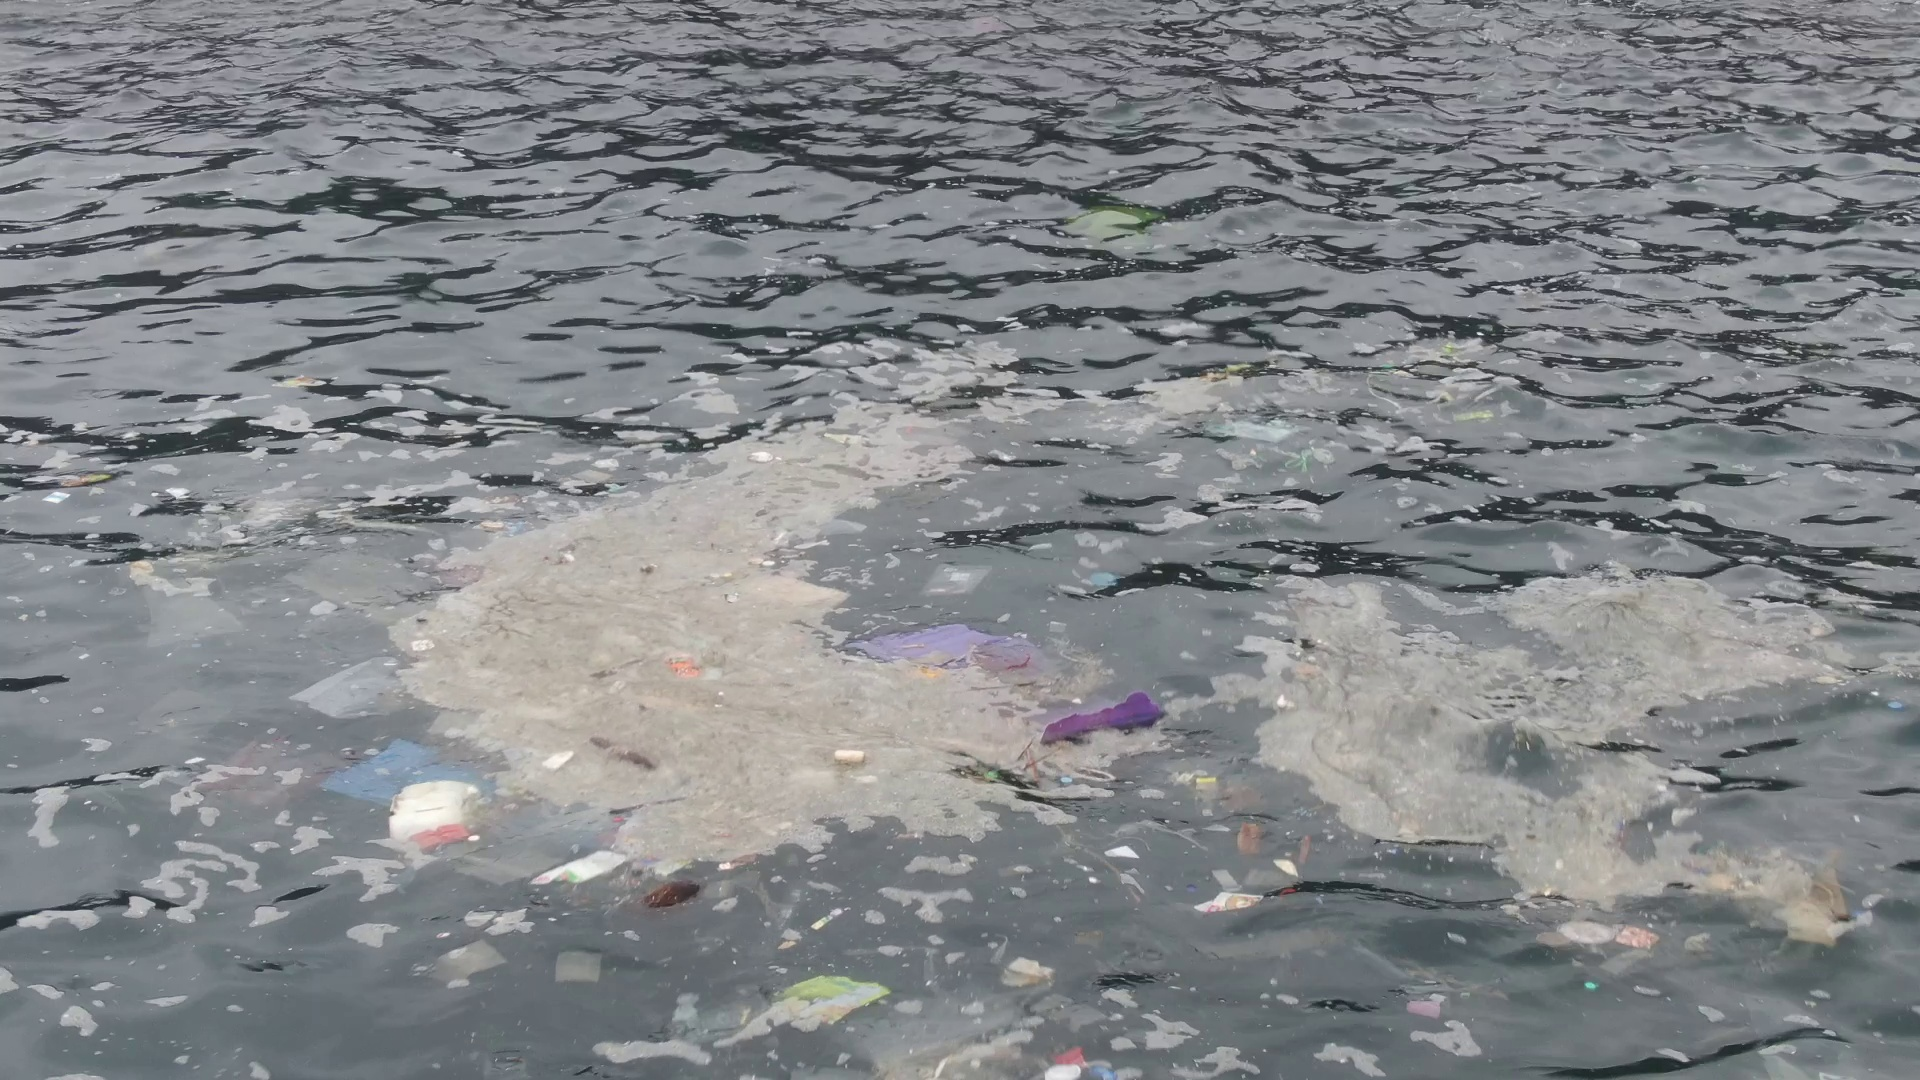garbage: (289, 611, 1266, 944), (698, 977, 887, 1056), (1365, 336, 1509, 419), (1069, 202, 1166, 256), (1534, 922, 1659, 949), (1221, 406, 1296, 444), (996, 951, 1055, 994), (1044, 1044, 1114, 1080), (1400, 981, 1458, 1019), (480, 496, 529, 533), (1207, 357, 1251, 385), (1290, 448, 1336, 475)
